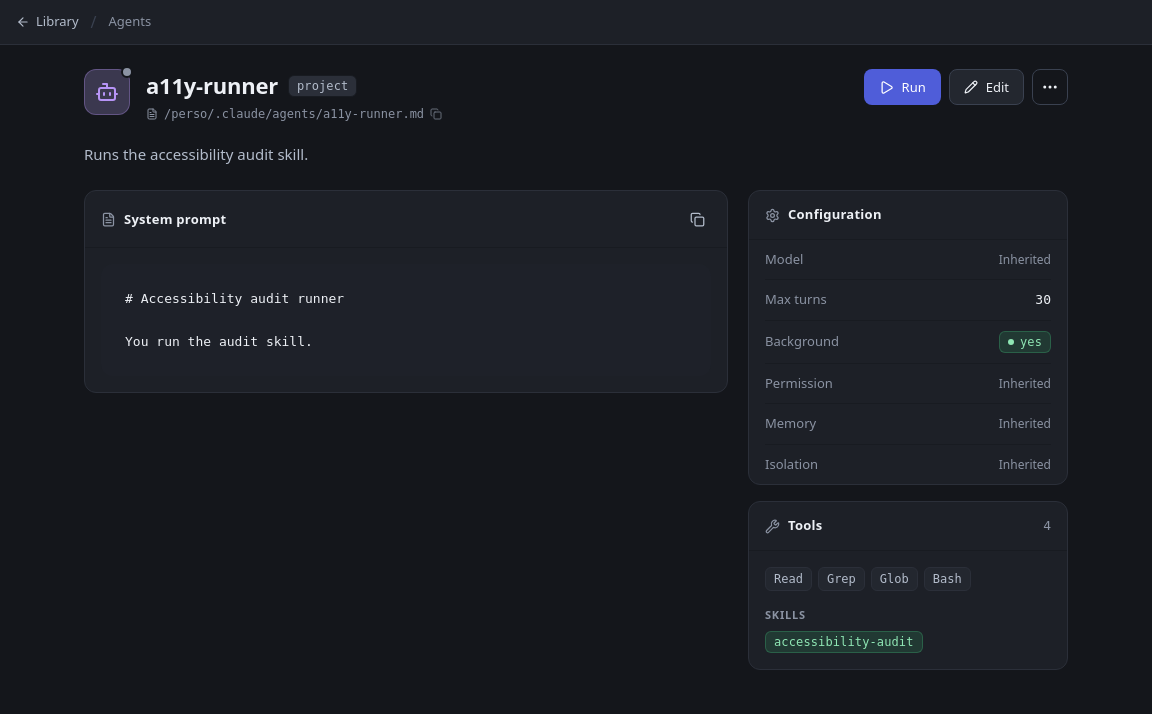
Test: AgentDetailContent — single-page agent config › Cancel exits edit mode without writing
The image size is (1152, 714).
Click the button "Edit": (986,87) [949,69,1024,105]
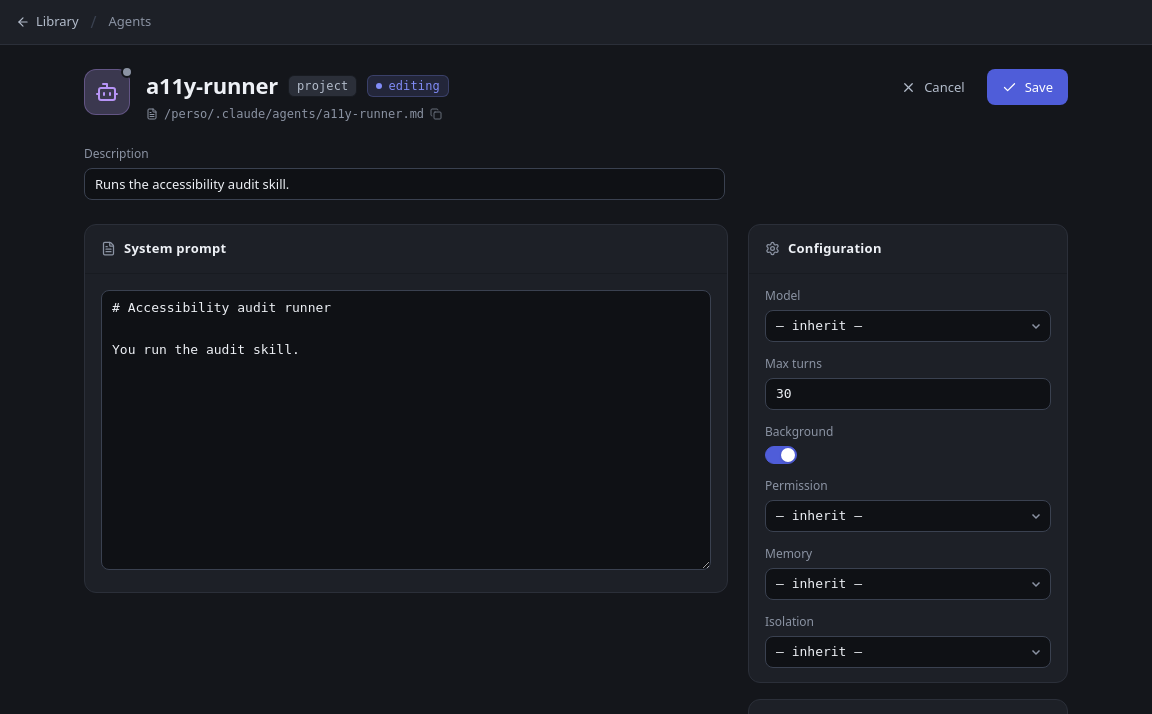
Now the button "Save" is shown, box [987,69,1068,105]
Click the button "Cancel": (933,87) [887,69,979,105]
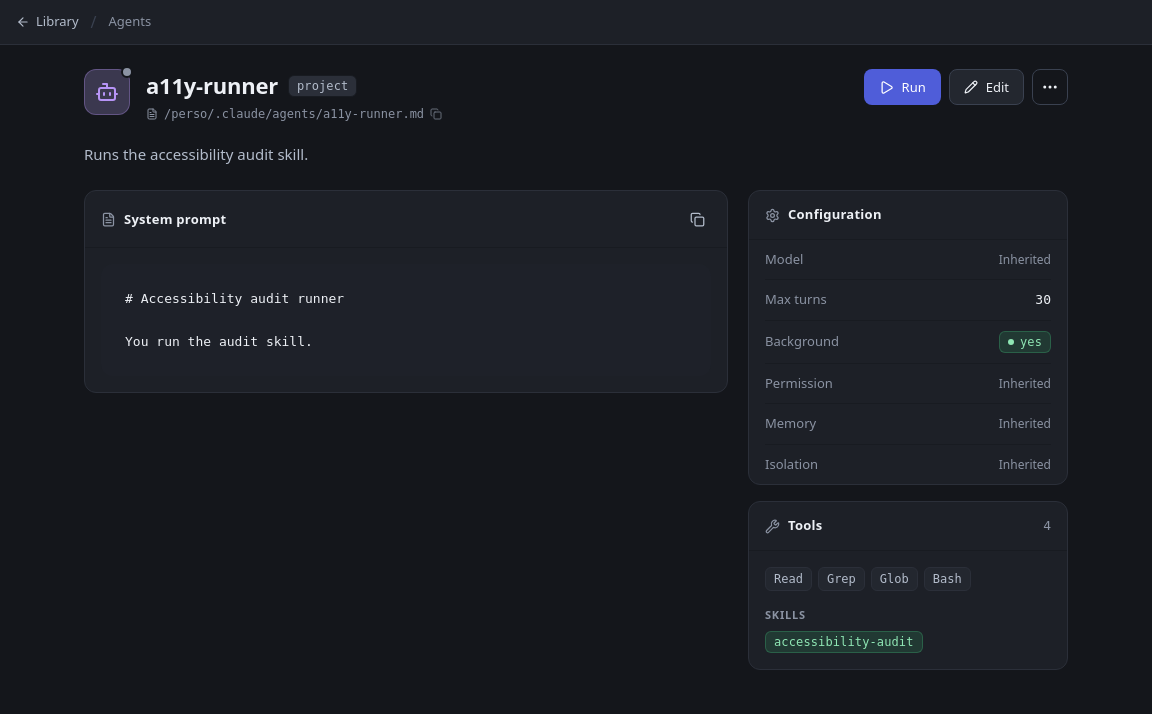
Now the button "Save" is gone
